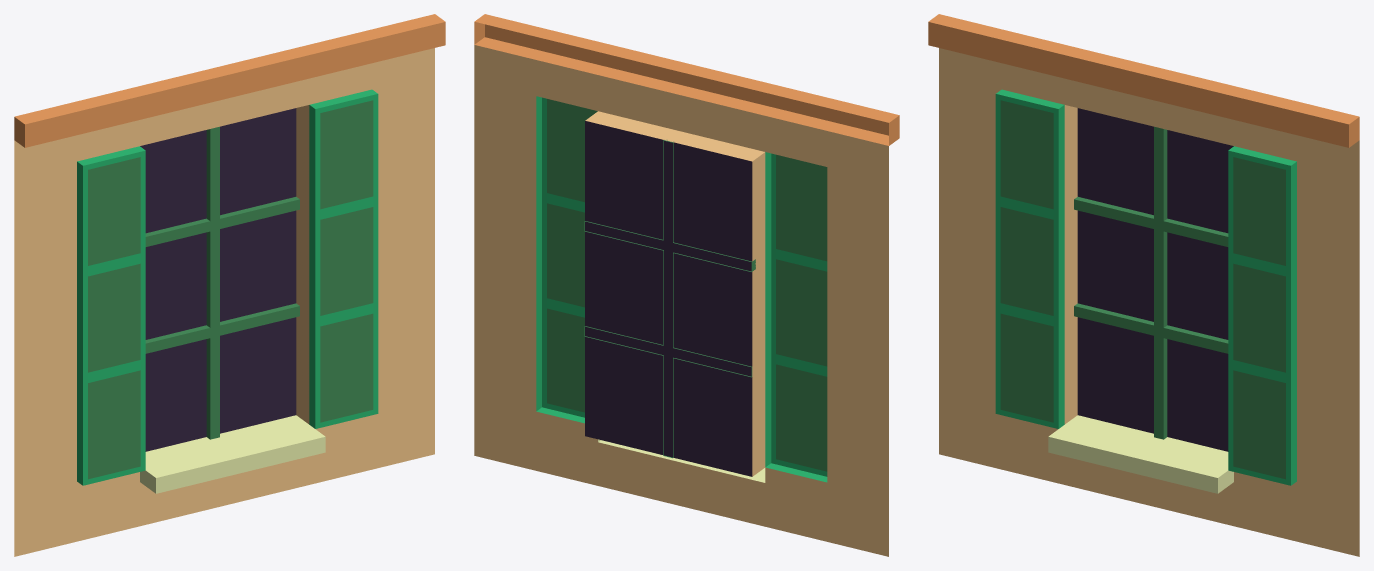
The model's file is Window1.1.fbx.
3 views of the same model, side by side, from view 1: azimuth 30°, elevation 25°; view 2: azimuth 150°, elevation 25°; view 3: azimuth 330°, elevation 25° (orthographic).
Visible parts, largest first — view 1: Cube.001; view 2: Cube.001; view 3: Cube.001.
Boxes of the visible parts, <box> form: Cube.001: <box>14,14,445,556</box>; Cube.001: <box>474,14,899,556</box>; Cube.001: <box>928,14,1359,556</box>.
Size of the model in its own units: 200 by 200 by 24.8.
